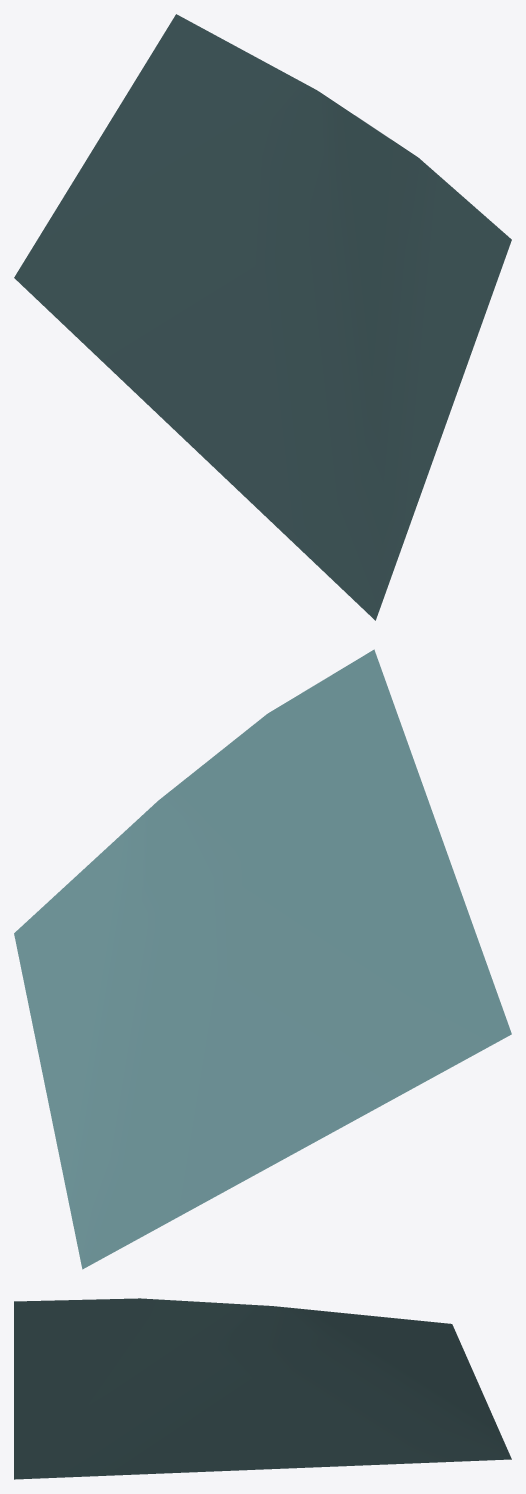
File: SUV_1_Door_Window_RR_Tessellate.fbx
The picture shows the model from 3 angles, top to bottom: view 1: azimuth 30°, elevation 25°; view 2: azimuth 150°, elevation 25°; view 3: azimuth 270°, elevation 25°; orthographic projection. The views are drawn at different scales.
Visible parts, largest first — view 1: SUV_1_Door_Window_RR_Tessellate; view 2: SUV_1_Door_Window_RR_Tessellate; view 3: SUV_1_Door_Window_RR_Tessellate.
Part boxes in pixels (x1,y1,x2,y2): SUV_1_Door_Window_RR_Tessellate: [14, 14, 511, 620]; SUV_1_Door_Window_RR_Tessellate: [14, 649, 511, 1269]; SUV_1_Door_Window_RR_Tessellate: [14, 1298, 511, 1479].
Bounding box in the file's own units: 18.07 × 41.83 × 83.88.
